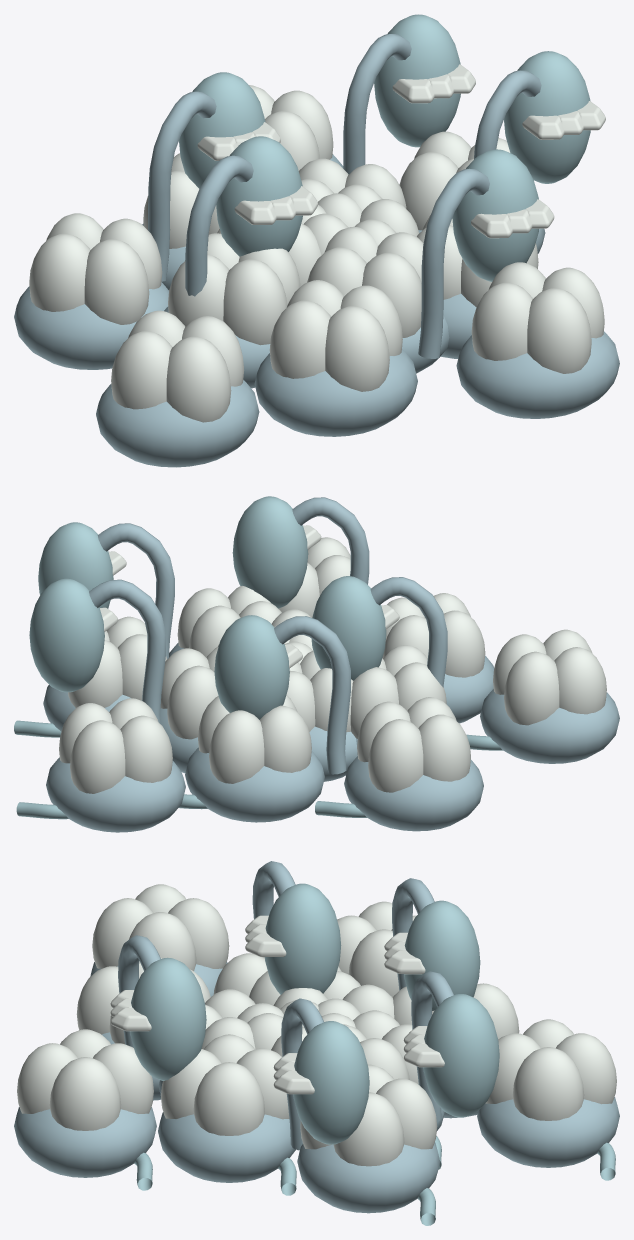
The model's file is bio_oxygen_reef_18_near.glb.
The picture shows the model from 3 angles, top to bottom: view 1: azimuth 30°, elevation 25°; view 2: azimuth 150°, elevation 25°; view 3: azimuth 270°, elevation 25°; orthographic projection. The views are drawn at different scales.
Parts seen in each view (by area): view 1: Lobed gas sac.048, Lobed gas sac.036, Lobed gas sac.040, Lobed gas sac.028, Lobed gas sac.016, Photosynthetic cushion.010, Photosynthetic cushion.012, Photosynthetic cushion.007, Lobed gas sac.008, Pendant spore capsule.003, Pendant spore capsule, Pendant spore capsule.002 (+23 smaller); view 2: Lobed gas sac.036, Lobed gas sac.044, Lobed gas sac.048, Lobed gas sac.024, Pendant spore capsule.003, Pendant spore capsule.002, Pendant spore capsule.001, Photosynthetic cushion.006, Photosynthetic cushion.011, Photosynthetic cushion.009, Photosynthetic cushion.012, Pendant spore capsule.004 (+21 smaller); view 3: Lobed gas sac.040, Lobed gas sac.044, Lobed gas sac.020, Lobed gas sac.048, Pendant spore capsule.003, Pendant spore capsule, Pendant spore capsule.002, Photosynthetic cushion.010, Photosynthetic cushion.008, Photosynthetic cushion.011, Lobed gas sac.032, Photosynthetic cushion.005 (+25 smaller).
Part boxes in pixels (x1=…): Lobed gas sac.048: x1=111, y1=310, x2=244, y2=422; Lobed gas sac.036: x1=29, y1=213, x2=162, y2=324; Lobed gas sac.040: x1=471, y1=262, x2=604, y2=373; Lobed gas sac.028: x1=269, y1=280, x2=402, y2=391; Lobed gas sac.016: x1=168, y1=233, x2=300, y2=345; Photosynthetic cushion.010: x1=456, y1=331, x2=619, y2=418; Photosynthetic cushion.012: x1=96, y1=380, x2=259, y2=467; Photosynthetic cushion.007: x1=254, y1=349, x2=417, y2=436; Lobed gas sac.008: x1=307, y1=226, x2=423, y2=337; Pendant spore capsule.003: x1=374, y1=14, x2=460, y2=147; Pendant spore capsule: x1=504, y1=51, x2=590, y2=183; Pendant spore capsule.002: x1=452, y1=149, x2=538, y2=281; Lobed gas sac.036: x1=357, y1=697, x2=470, y2=792; Lobed gas sac.044: x1=59, y1=698, x2=172, y2=793; Lobed gas sac.048: x1=493, y1=629, x2=606, y2=725; Lobed gas sac.024: x1=198, y1=695, x2=311, y2=783; Pendant spore capsule.003: x1=29, y1=578, x2=104, y2=692; Pendant spore capsule.002: x1=232, y1=496, x2=308, y2=608; Pendant spore capsule.001: x1=214, y1=615, x2=289, y2=719; Photosynthetic cushion.006: x1=185, y1=747, x2=324, y2=822; Photosynthetic cushion.011: x1=46, y1=757, x2=185, y2=832; Photosynthetic cushion.009: x1=344, y1=756, x2=483, y2=831; Photosynthetic cushion.012: x1=480, y1=689, x2=619, y2=763; Pendant spore capsule.004: x1=311, y1=576, x2=386, y2=680; Lobed gas sac.040: x1=17, y1=1029, x2=153, y2=1130; Lobed gas sac.044: x1=485, y1=1019, x2=616, y2=1120; Lobed gas sac.020: x1=161, y1=1034, x2=289, y2=1135; Lobed gas sac.048: x1=92, y1=884, x2=229, y2=970; Pendant spore capsule.003: x1=423, y1=994, x2=499, y2=1117; Pendant spore capsule: x1=293, y1=1021, x2=369, y2=1144; Pendant spore capsule.002: x1=130, y1=957, x2=206, y2=1080; Photosynthetic cushion.010: x1=14, y1=1107, x2=156, y2=1177; Photosynthetic cushion.008: x1=297, y1=1142, x2=439, y2=1213; Photosynthetic cushion.011: x1=477, y1=1097, x2=619, y2=1167; Lobed gas sac.032: x1=300, y1=1064, x2=437, y2=1166; Photosynthetic cushion.005: x1=158, y1=1112, x2=295, y2=1182.
Bounding box in the file's own units: 2.06 × 0.7745 × 2.03.
